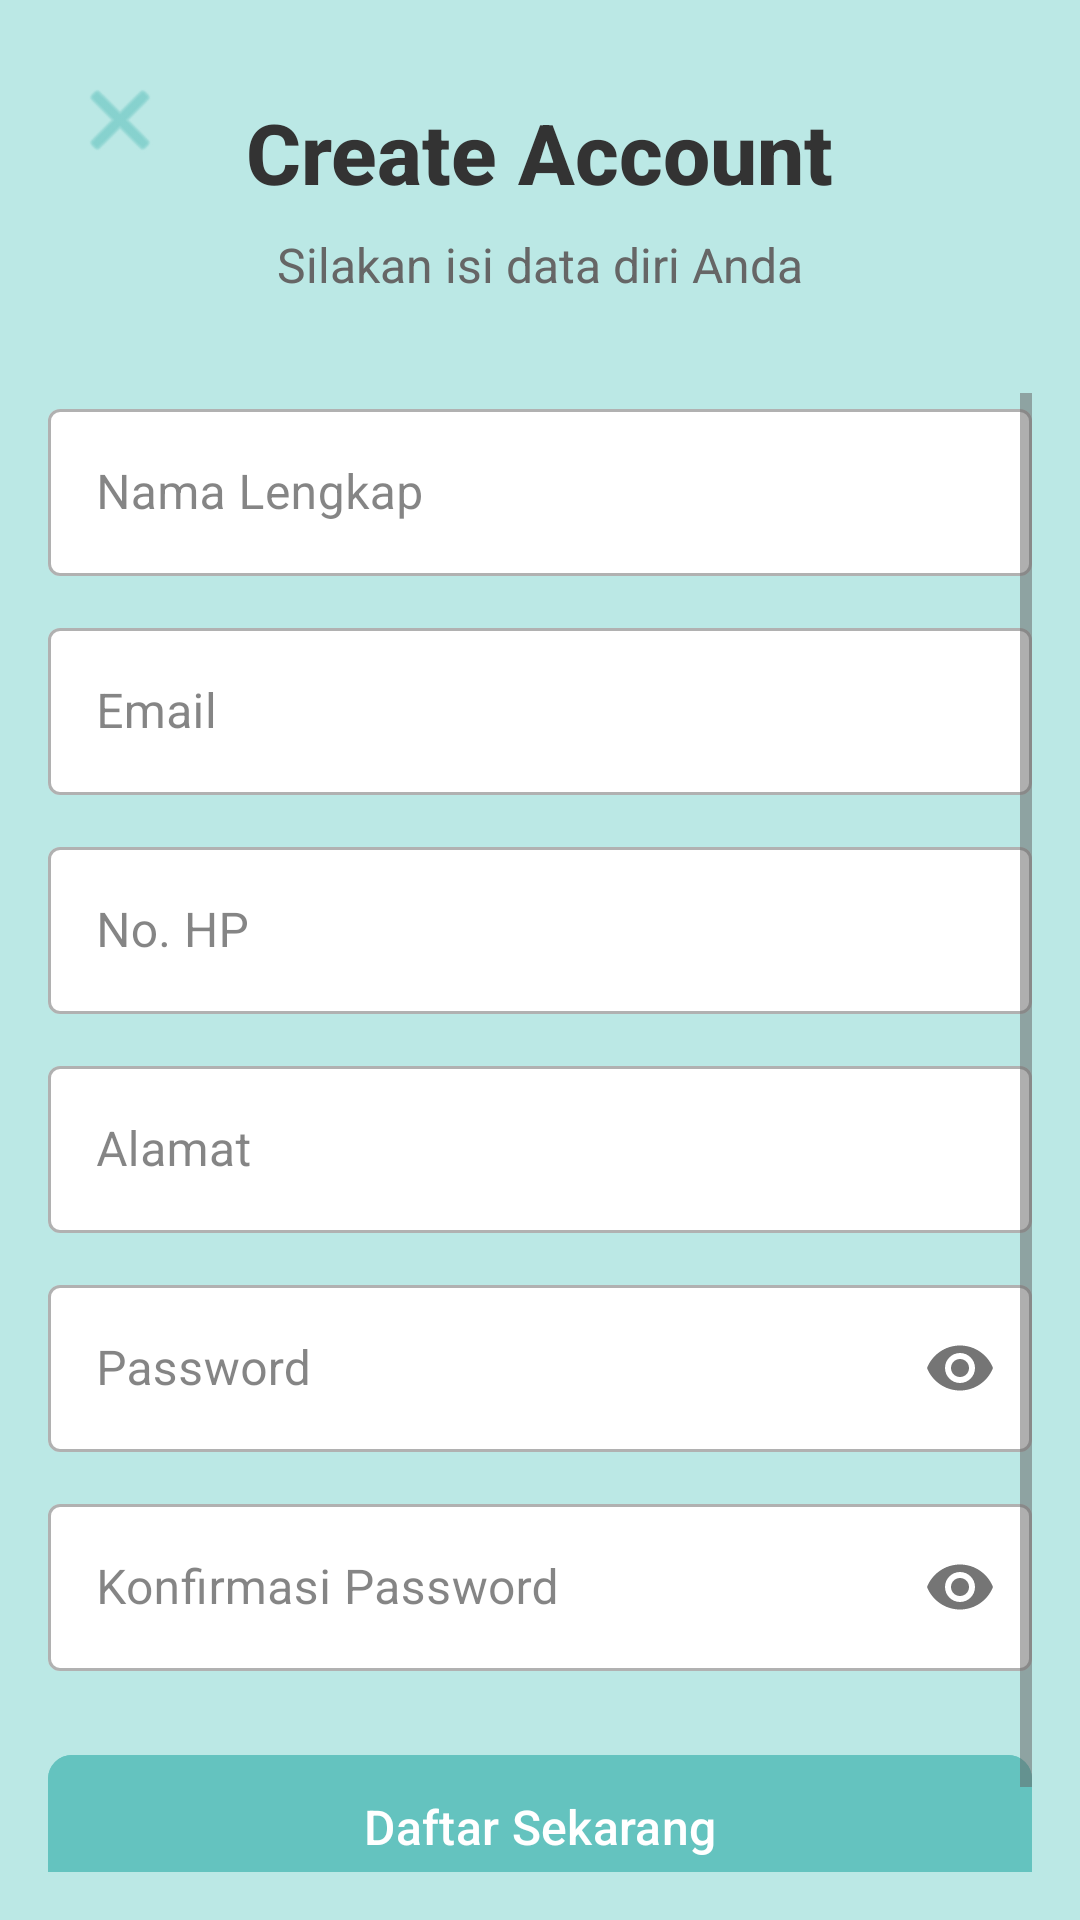

Screen size 1080x1920. Icon name, then its center in pixels as point (x, y):
close clear cancel: point (120, 120)
